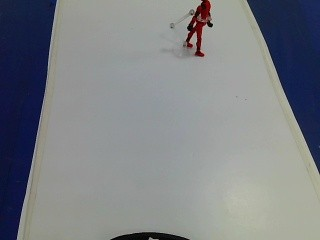pedestrian: (167, 0, 220, 65)
